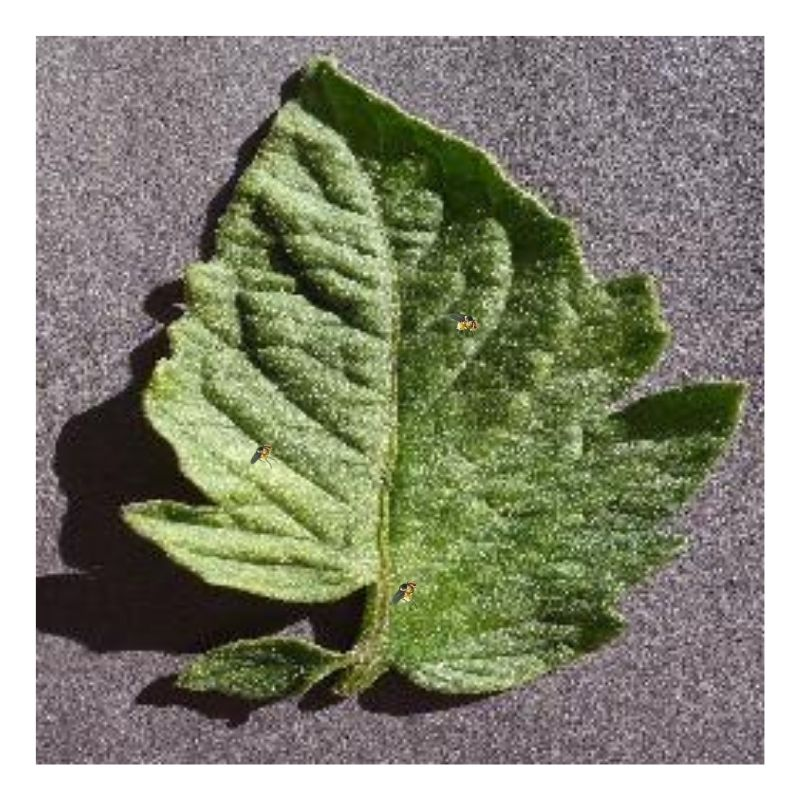liriomyza: (250, 442, 279, 471), (451, 310, 480, 335), (394, 577, 416, 606)
